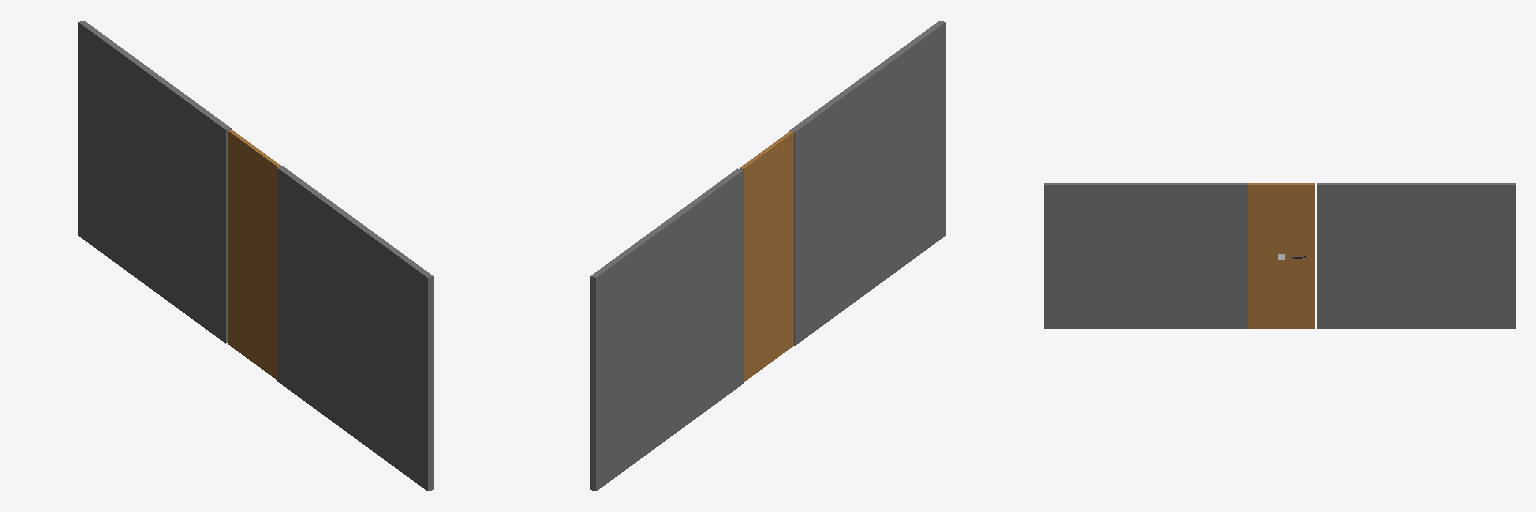
URDF robot description (revolute_door):
<?xml version="1.0"?>
<!-- Revolute (hinged) door: frame + leaf (hinge) + lever handle (latch).
     Primitives only (box + cylinder). Import to USD in Isaac Sim.
     - Set door_frame as FIXED base link on import.
     - Tune resistance via the PhysX joint drive/damping after import
       (this is your "environment stiffness" to randomize).
     - Inertia values are placeholders; let Isaac Sim recompute from
       geometry + density if you prefer.
     Convention: door face normal = +X, width along +Y (hinge at Y=0),
     height along +Z. -->
<robot name="revolute_door">

  <!-- ===================== FRAME (static hinge post) ===================== -->
  <link name="door_frame">
    <visual>
      <origin xyz="0 -0.03 1.0" rpy="0 0 0"/>
      <geometry><box size="0.06 0.06 2.0"/></geometry>
      <material name="frame_grey"><color rgba="0.5 0.5 0.5 1"/></material>
    </visual>
    <collision>
      <origin xyz="0 -0.03 1.0" rpy="0 0 0"/>
      <geometry><box size="0.06 0.06 2.0"/></geometry>
    </collision>
    <inertial>
      <origin xyz="0 -0.03 1.0"/>
      <mass value="50"/>
      <inertia ixx="16.7" iyy="16.7" izz="0.03" ixy="0" ixz="0" iyz="0"/>
    </inertial>
  </link>

  <!-- ===================== DOOR LEAF ===================== -->
  <link name="door_leaf">
    <visual>
      <origin xyz="0.0 0.425 1.0" rpy="0 0 0"/>
      <geometry><box size="0.04 0.85 2.0"/></geometry>
      <material name="door_wood"><color rgba="0.72 0.52 0.30 1"/></material>
    </visual>
    <collision>
      <origin xyz="0.0 0.425 1.0" rpy="0 0 0"/>
      <geometry><box size="0.04 0.85 2.0"/></geometry>
    </collision>
    <inertial>
      <origin xyz="0.0 0.425 1.0"/>
      <mass value="15"/>
      <inertia ixx="5.90" iyy="5.00" izz="0.91" ixy="0" ixz="0" iyz="0"/>
    </inertial>
  </link>

  <!-- Hinge: vertical axis. This is what "opens". Kept locked by the
       latch-gating logic until the handle is turned past threshold. -->
  <joint name="hinge_joint" type="revolute">
    <parent link="door_frame"/>
    <child link="door_leaf"/>
    <origin xyz="0 0 0" rpy="0 0 0"/>
    <axis xyz="0 0 1"/>
    <limit lower="0.0" upper="2.36" effort="200" velocity="2.0"/>
    <dynamics damping="5.0" friction="1.0"/>
  </joint>

  <!-- ===================== HANDLE: spindle stub (rotates = latch) ======= -->
  <link name="handle_base">
    <visual>
      <origin xyz="0.02 0 0" rpy="0 1.5708 0"/>
      <geometry><cylinder radius="0.012" length="0.04"/></geometry>
      <material name="handle_metal"><color rgba="0.2 0.2 0.22 1"/></material>
    </visual>
    <collision>
      <origin xyz="0.02 0 0" rpy="0 1.5708 0"/>
      <geometry><cylinder radius="0.012" length="0.04"/></geometry>
    </collision>
    <inertial>
      <origin xyz="0.02 0 0"/>
      <mass value="0.1"/>
      <inertia ixx="1e-4" iyy="1e-4" izz="1e-4" ixy="0" ixz="0" iyz="0"/>
    </inertial>
  </link>

  <joint name="latch_joint" type="fixed">
    <parent link="door_leaf"/>
    <child link="handle_base"/>
    <origin xyz="0.02 0.72 1.0" rpy="0 0 0"/>
  </joint>

  <!-- ===================== HANDLE: lever to grasp ===================== -->
  <!-- Points back toward the door center/hinge side (local -Y from the
       spindle), like a real lever handle - NOT out past the door's free
       edge. Length 160mm (was 120mm) so the two AprilTag anchors below
       leave >=100mm of clear lever surface for a ~70mm-wide gripper. -->
  <link name="handle_lever">
    <visual>
      <origin xyz="0 -0.08 0" rpy="1.5708 0 0"/>
      <geometry><cylinder radius="0.014" length="0.16"/></geometry>
      <material name="handle_metal"><color rgba="0.2 0.2 0.22 1"/></material>
    </visual>
    <collision>
      <origin xyz="0 -0.08 0" rpy="1.5708 0 0"/>
      <geometry><cylinder radius="0.014" length="0.16"/></geometry>
    </collision>
    <inertial>
      <origin xyz="0 -0.08 0"/>
      <mass value="0.25"/>
      <inertia ixx="5.5e-4" iyy="1.25e-4" izz="5.5e-4" ixy="0" ixz="0" iyz="0"/>
    </inertial>
  </link>

  <!-- Attach the gripper HERE (surface gripper / fixed joint on contact). -->
  <joint name="handle_fixed" type="fixed">
    <parent link="handle_base"/>
    <child link="handle_lever"/>
    <origin xyz="0.04 0 0" rpy="0 0 0"/>
  </joint>

  <!-- ===================== APRILTAG ANCHORS ===================== -->
  <material name="door_tag_material">
    <color rgba="1 1 1 1"/>
    <texture filename="door_tag_id0_tag36h11.png"/>
  </material>
  <material name="handle_tag_a_material">
    <color rgba="1 1 1 1"/>
    <texture filename="handle_tag_a_id0_tag16h5.png"/>
  </material>
  <material name="handle_tag_b_material">
    <color rgba="1 1 1 1"/>
    <texture filename="handle_tag_b_id1_tag16h5.png"/>
  </material>

  <!-- Big tag, door center. Normal = +X (rpy rotates local Z -> world +X). -->
  <link name="door_tag_center">
    <visual>
      <geometry><mesh filename="../meshes/tags/tag_quad.obj" scale="0.08 0.08 1"/></geometry>
      <material name="door_tag_material"/>
    </visual>
    <inertial>
      <origin xyz="0 0 0"/>
      <mass value="0.001"/>
      <inertia ixx="1e-8" iyy="1e-8" izz="1e-8" ixy="0" ixz="0" iyz="0"/>
    </inertial>
  </link>
  <joint name="door_tag_center_joint" type="fixed">
    <parent link="door_leaf"/>
    <child link="door_tag_center"/>
    <origin xyz="0.021 0.425 1.0" rpy="0 1.5708 0"/>
  </joint>

  <!-- Small tags, lever ends (lever now spans local Y: -0.16..0, radius 0.014). -->
  <link name="handle_tag_a">
    <visual>
      <geometry><mesh filename="../meshes/tags/tag_quad.obj" scale="0.025 0.025 1"/></geometry>
      <material name="handle_tag_a_material"/>
    </visual>
    <inertial>
      <origin xyz="0 0 0"/>
      <mass value="0.001"/>
      <inertia ixx="1e-8" iyy="1e-8" izz="1e-8" ixy="0" ixz="0" iyz="0"/>
    </inertial>
  </link>
  <joint name="handle_tag_a_joint" type="fixed">
    <parent link="handle_lever"/>
    <child link="handle_tag_a"/>
    <origin xyz="0.016 -0.015 0" rpy="0 1.5708 0"/>
  </joint>

  <link name="handle_tag_b">
    <visual>
      <geometry><mesh filename="../meshes/tags/tag_quad.obj" scale="0.025 0.025 1"/></geometry>
      <material name="handle_tag_b_material"/>
    </visual>
    <inertial>
      <origin xyz="0 0 0"/>
      <mass value="0.001"/>
      <inertia ixx="1e-8" iyy="1e-8" izz="1e-8" ixy="0" ixz="0" iyz="0"/>
    </inertial>
  </link>
  <joint name="handle_tag_b_joint" type="fixed">
    <parent link="handle_lever"/>
    <child link="handle_tag_b"/>
    <origin xyz="0.016 -0.145 0" rpy="0 1.5708 0"/>
  </joint>

  <!-- ===================== WALLS (left/right, u ravnini vrata) ==========
       Koplanarno s door_frame (isti X, ista debljina 0.06). Lijevi zid
       nastavlja stranu sarke od vanjskog ruba framea (y=-0.06) dalje u
       -Y; desni zatvara prolaz na strani kvake, prislonjen na vanjski
       rub krila kad su vrata zatvorena (y=0.85). Duljina svakog zida
       2.5 m. Slobodan prolaz izmedju njih ostaje 0.85 m (isto kao sirina
       krila) - kmr_width (0.63 m) staje s marginom od 0.11 m po strani.
       Krilo se pri otvaranju giba SAMO prema manjim y (0.85 -> 0 kako
       theta raste), nikad prema van, pa ne dodiruje wall_right ni pri
       punom otvoru od 90°. -->
  <link name="wall_left">
    <visual>
      <origin xyz="0 -1.31 1.0" rpy="0 0 0"/>
      <geometry><box size="0.06 2.5 2.0"/></geometry>
      <material name="frame_grey"/>
    </visual>
    <collision>
      <origin xyz="0 -1.31 1.0" rpy="0 0 0"/>
      <geometry><box size="0.06 2.5 2.0"/></geometry>
    </collision>
    <inertial>
      <origin xyz="0 -1.31 1.0"/>
      <mass value="100"/>
      <inertia ixx="85.4" iyy="33.4" izz="52.1" ixy="0" ixz="0" iyz="0"/>
    </inertial>
  </link>

  <joint name="wall_left_joint" type="fixed">
    <parent link="door_frame"/>
    <child link="wall_left"/>
    <origin xyz="0 0 0" rpy="0 0 0"/>
  </joint>

  <link name="wall_right">
    <visual>
      <origin xyz="0 2.12 1.0" rpy="0 0 0"/>
      <geometry><box size="0.06 2.5 2.0"/></geometry>
      <material name="frame_grey"/>
    </visual>
    <collision>
      <origin xyz="0 2.12 1.0" rpy="0 0 0"/>
      <geometry><box size="0.06 2.5 2.0"/></geometry>
    </collision>
    <inertial>
      <origin xyz="0 2.12 1.0"/>
      <mass value="100"/>
      <inertia ixx="85.4" iyy="33.4" izz="52.1" ixy="0" ixz="0" iyz="0"/>
    </inertial>
  </link>

  <joint name="wall_right_joint" type="fixed">
    <parent link="door_frame"/>
    <child link="wall_right"/>
    <origin xyz="0 0 0" rpy="0 0 0"/>
  </joint>
  
</robot>

--- Facts derived from the render (not from the file) ---
Views: 3 orthographic renders of the robot side by side, from view 1: azimuth 30°, elevation 25°; view 2: azimuth 150°, elevation 25°; view 3: azimuth 270°, elevation 25°.
Model revolute_door with 9 links and 8 joints (1 revolute, 7 fixed), rooted at door_frame, posed all joints at 0.
Links seen in each view (by area): view 1: wall_left, wall_right, door_leaf, door_frame; view 2: wall_right, wall_left, door_leaf, door_frame; view 3: wall_left, wall_right, door_leaf, door_frame.
Link boxes in pixels (box(x1,y1,x2,y2)): wall_left: box(280, 168, 433, 490); wall_right: box(78, 21, 231, 343); door_leaf: box(228, 130, 280, 379); door_frame: box(277, 166, 285, 382); wall_right: box(590, 168, 743, 490); wall_left: box(793, 21, 945, 343); door_leaf: box(740, 131, 793, 381); door_frame: box(789, 128, 797, 345); wall_left: box(1044, 183, 1242, 328); wall_right: box(1317, 183, 1515, 328); door_leaf: box(1248, 183, 1314, 328); door_frame: box(1243, 183, 1247, 328).
Bounding box of the posed robot: 0.106 × 5.93 × 2 m (x, y, z).
Meshes: 1 distinct files referenced, 3 mesh visuals loaded (1 OBJ).
